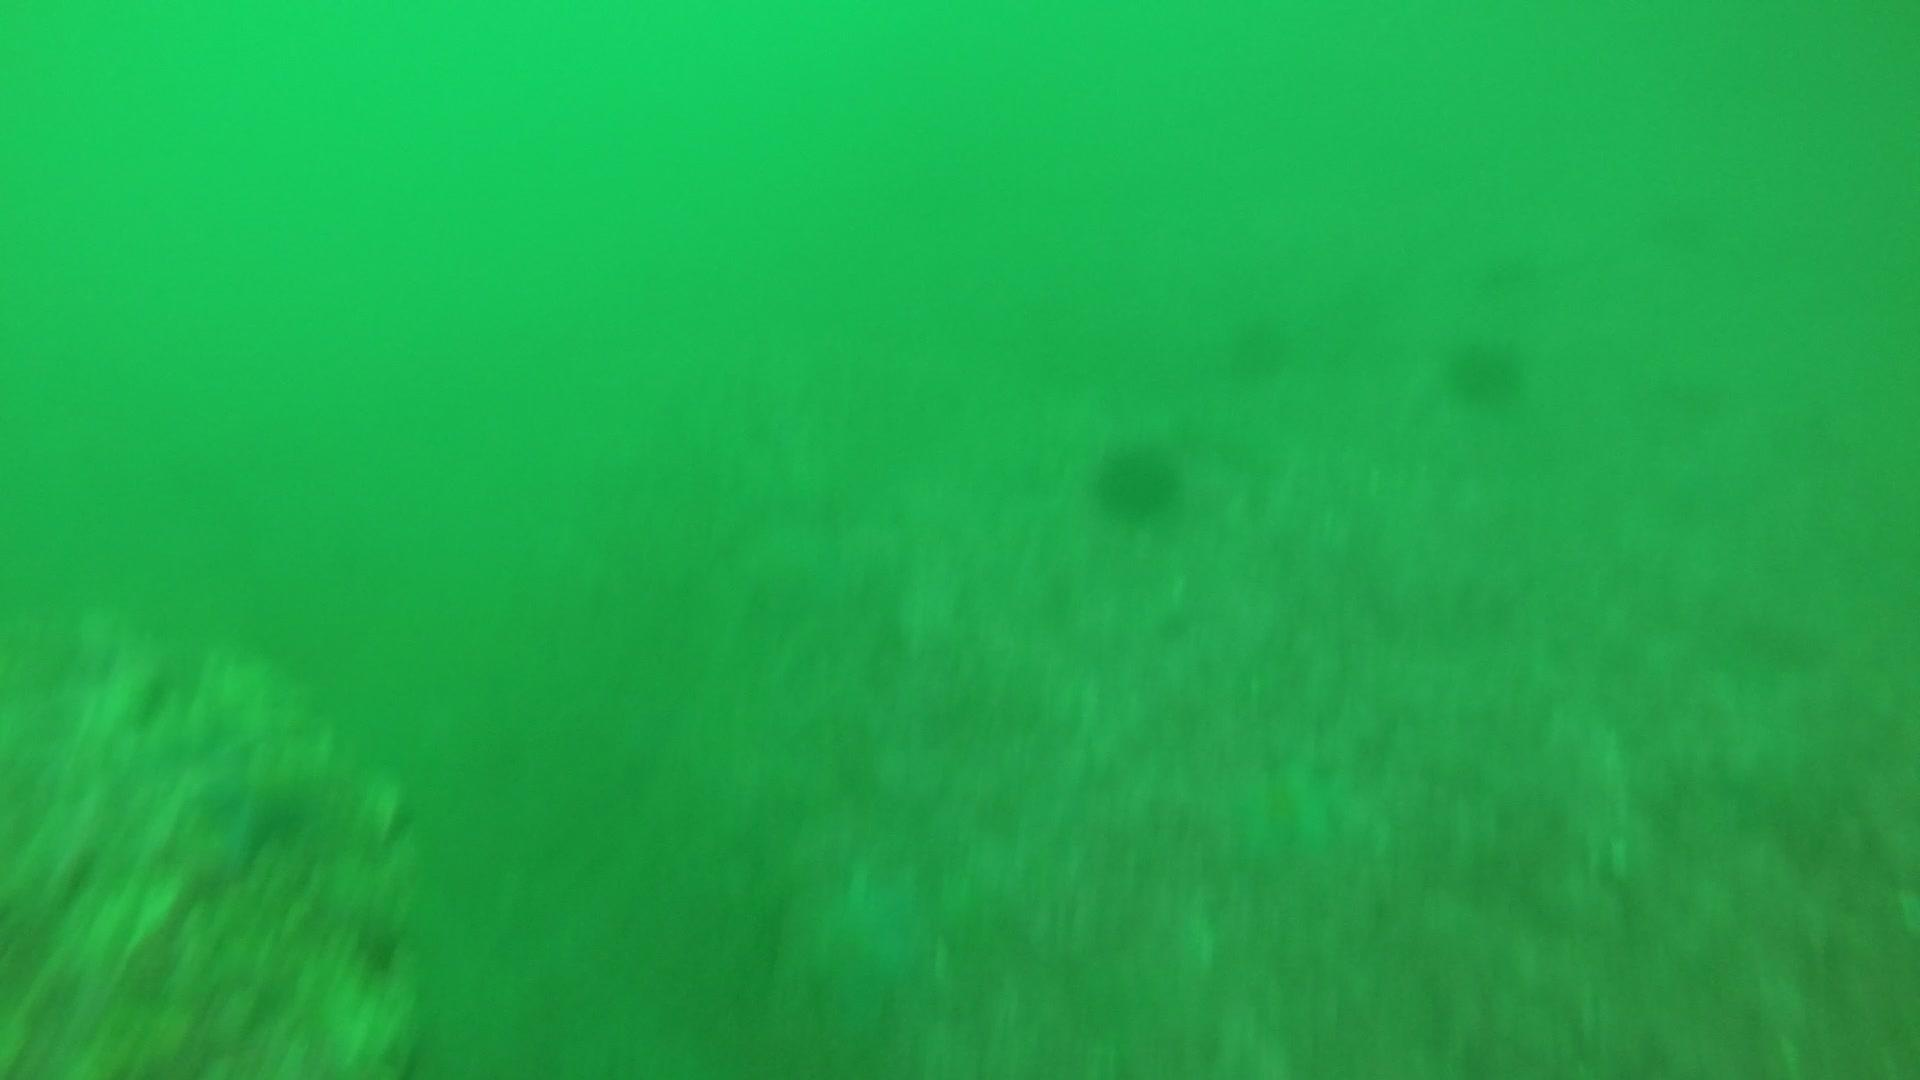echinus: (1087, 433, 1187, 524), (1439, 328, 1530, 409), (1222, 306, 1298, 382)
starfish: (161, 719, 402, 885), (791, 858, 939, 1015), (1211, 742, 1353, 866)
